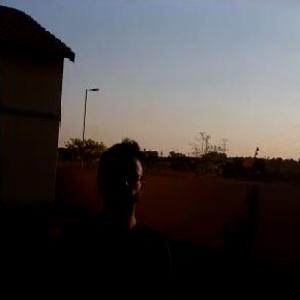follow: (40, 137, 179, 299)
